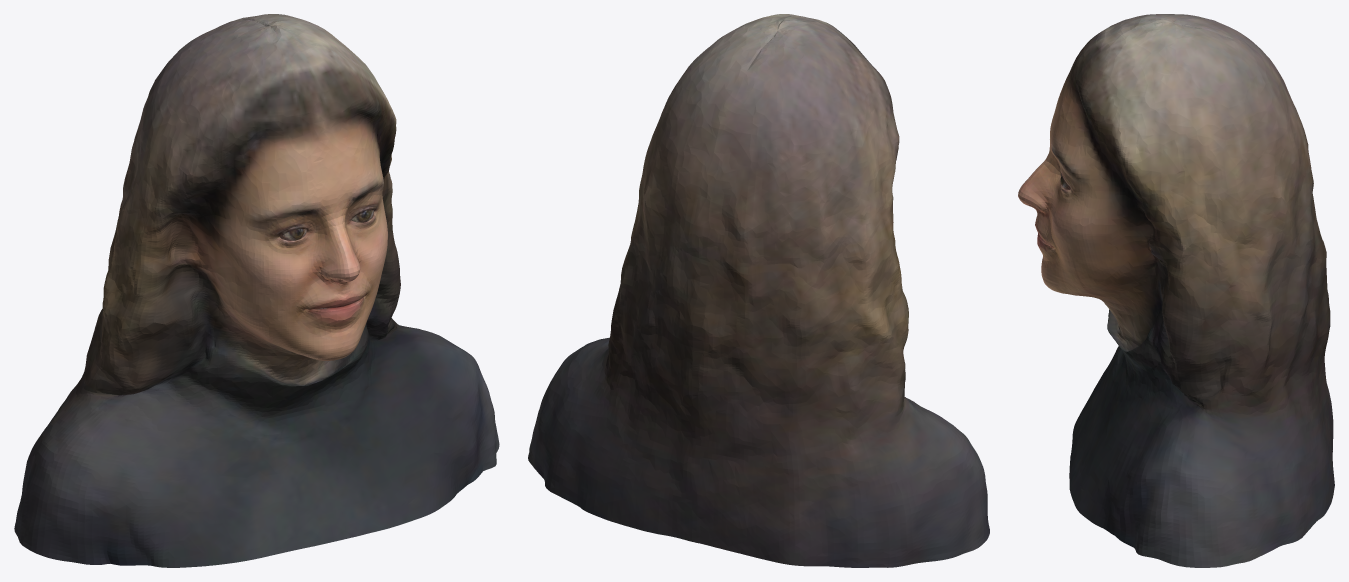
3 views of the same model, side by side, from view 1: azimuth 30°, elevation 25°; view 2: azimuth 150°, elevation 25°; view 3: azimuth 270°, elevation 25° (orthographic). The views are drawn at different scales.
Parts seen in each view (by area): view 1: Node1; view 2: Node1; view 3: Node1.
Boxes of the visible parts, box(x1,y1,x2,y2) form: Node1: box(14, 14, 499, 567); Node1: box(528, 14, 989, 567); Node1: box(1018, 14, 1334, 567).
Bounding box in the file's own units: 0.4041 × 0.398 × 0.2582.
Materials: 1 (1 with a texture image).
